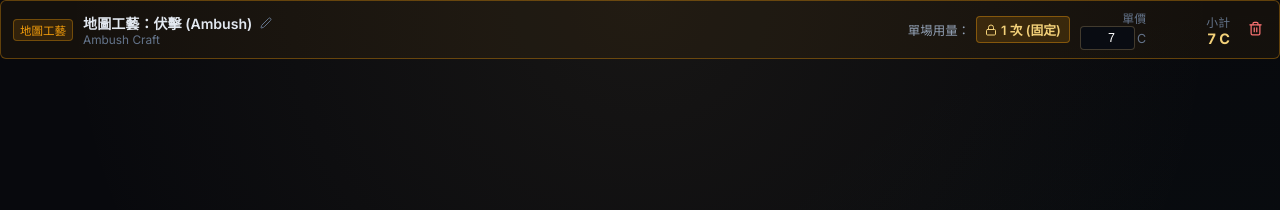
AtlasExtraItemRow Component (Issue #16) › cancels renaming when clicking cancel button or pressing Escape key
The width and height of the screenshot is (1280, 210).
Click the button named "修改名稱". click: (266, 22)
box: [258,14,274,30]
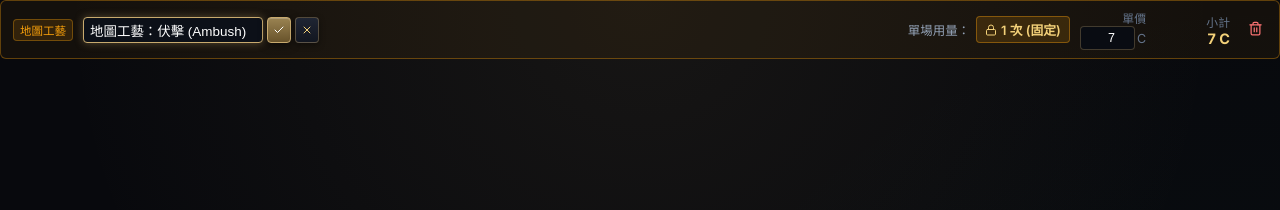
Replace the text in the field showing "地圖工藝：伏擊 (Ambush)" with "放棄的名稱". click: (173, 30)
box: [83,16,263,42]
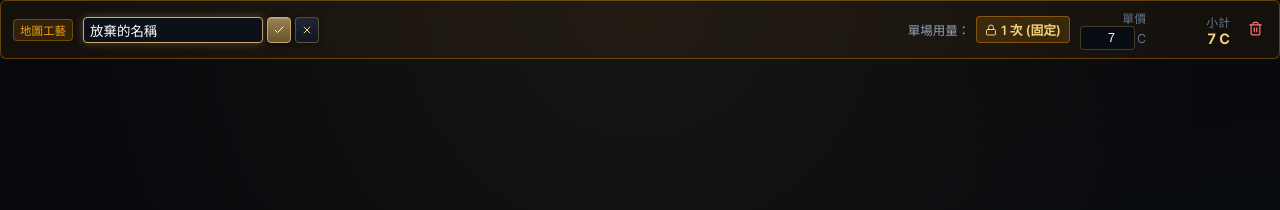
// Press Escape
Press Escape in the field showing "地圖工藝：伏擊 (Ambush)", box [83,16,263,42]
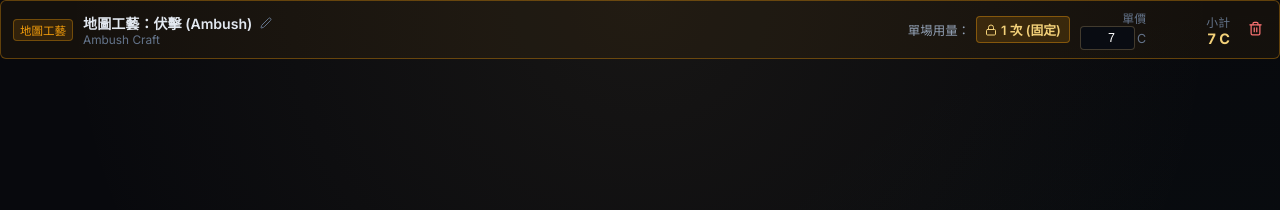
expect the text "地圖工藝：伏擊 (Ambush)" is shown: met, box [83,12,252,32]
